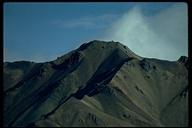mountain: (5, 35, 191, 125)
sky: (6, 3, 185, 35)
